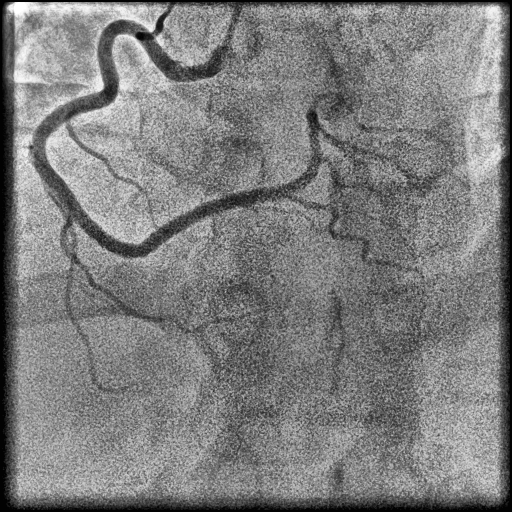pborca: (284, 112, 453, 194)
pda: (290, 193, 426, 279)
rca: (31, 19, 292, 258)
